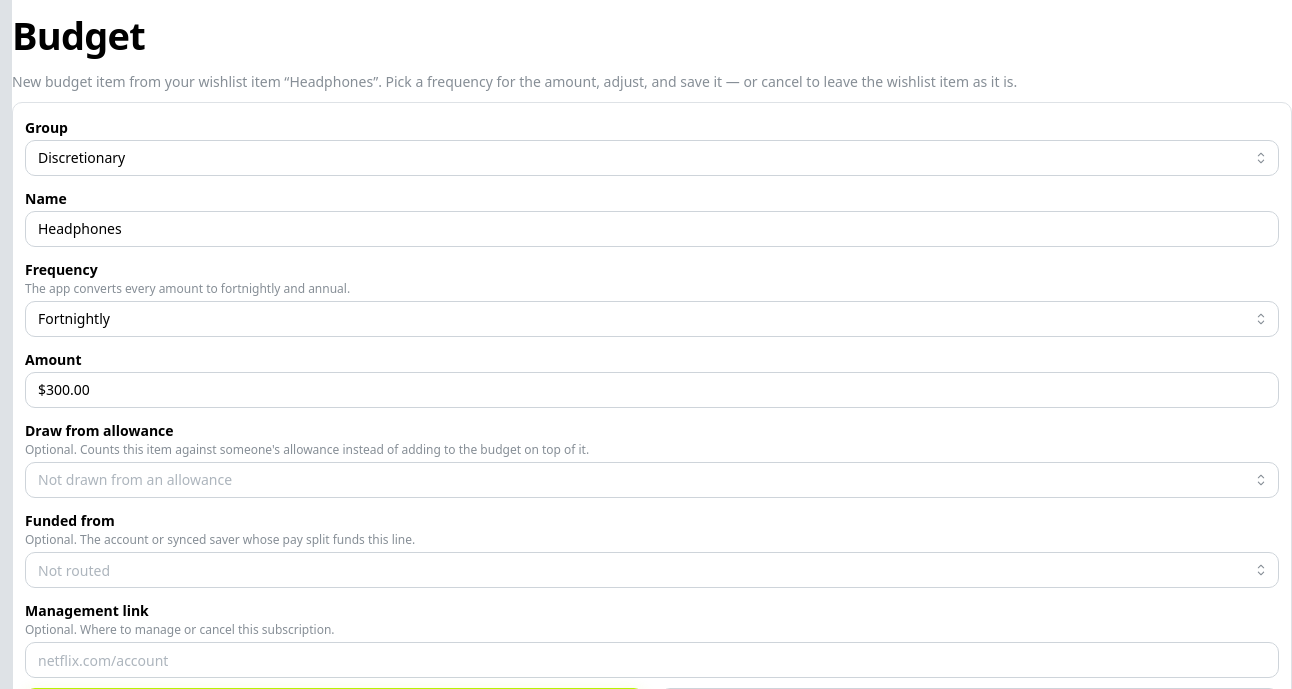
Test: BudgetScreen › offers the allowance on a promoted wishlist item
Click the dropdown labelled "Draw from allowance" at x=652, y=480, box x1=25 y1=462 x2=1279 y2=498
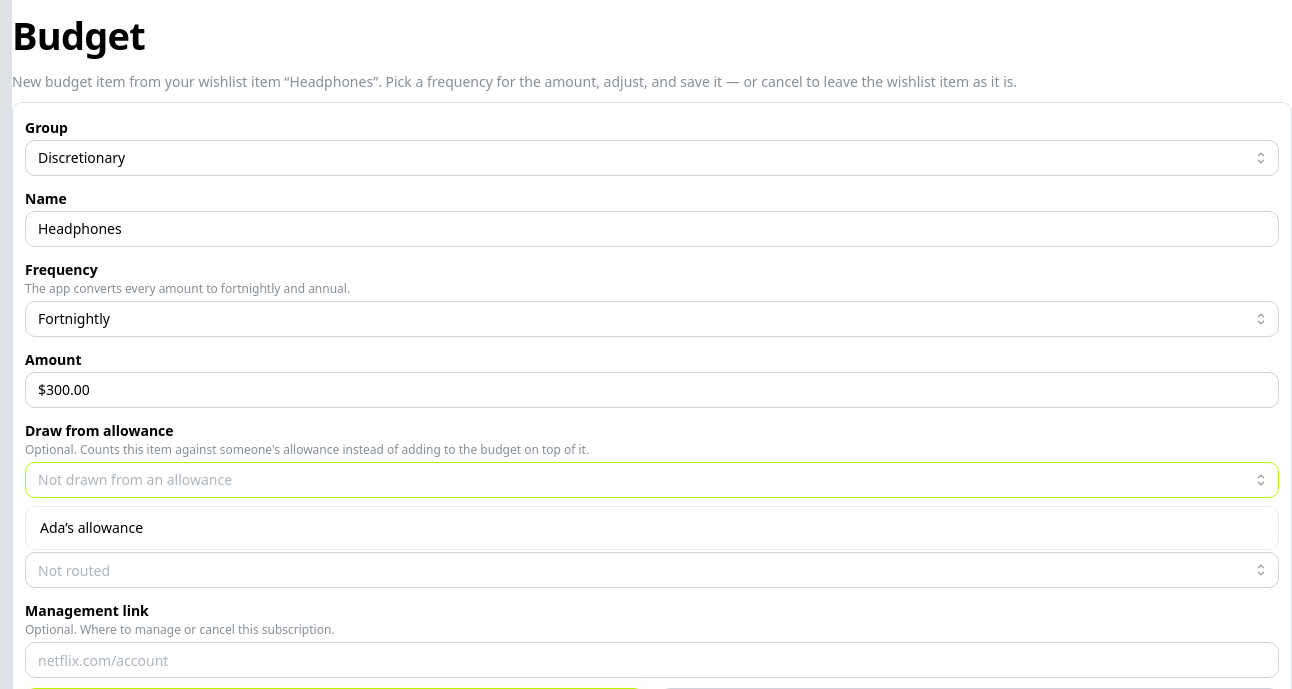
Expected: the option "Ada’s allowance" is shown, x1=40 y1=518 x2=143 y2=537
